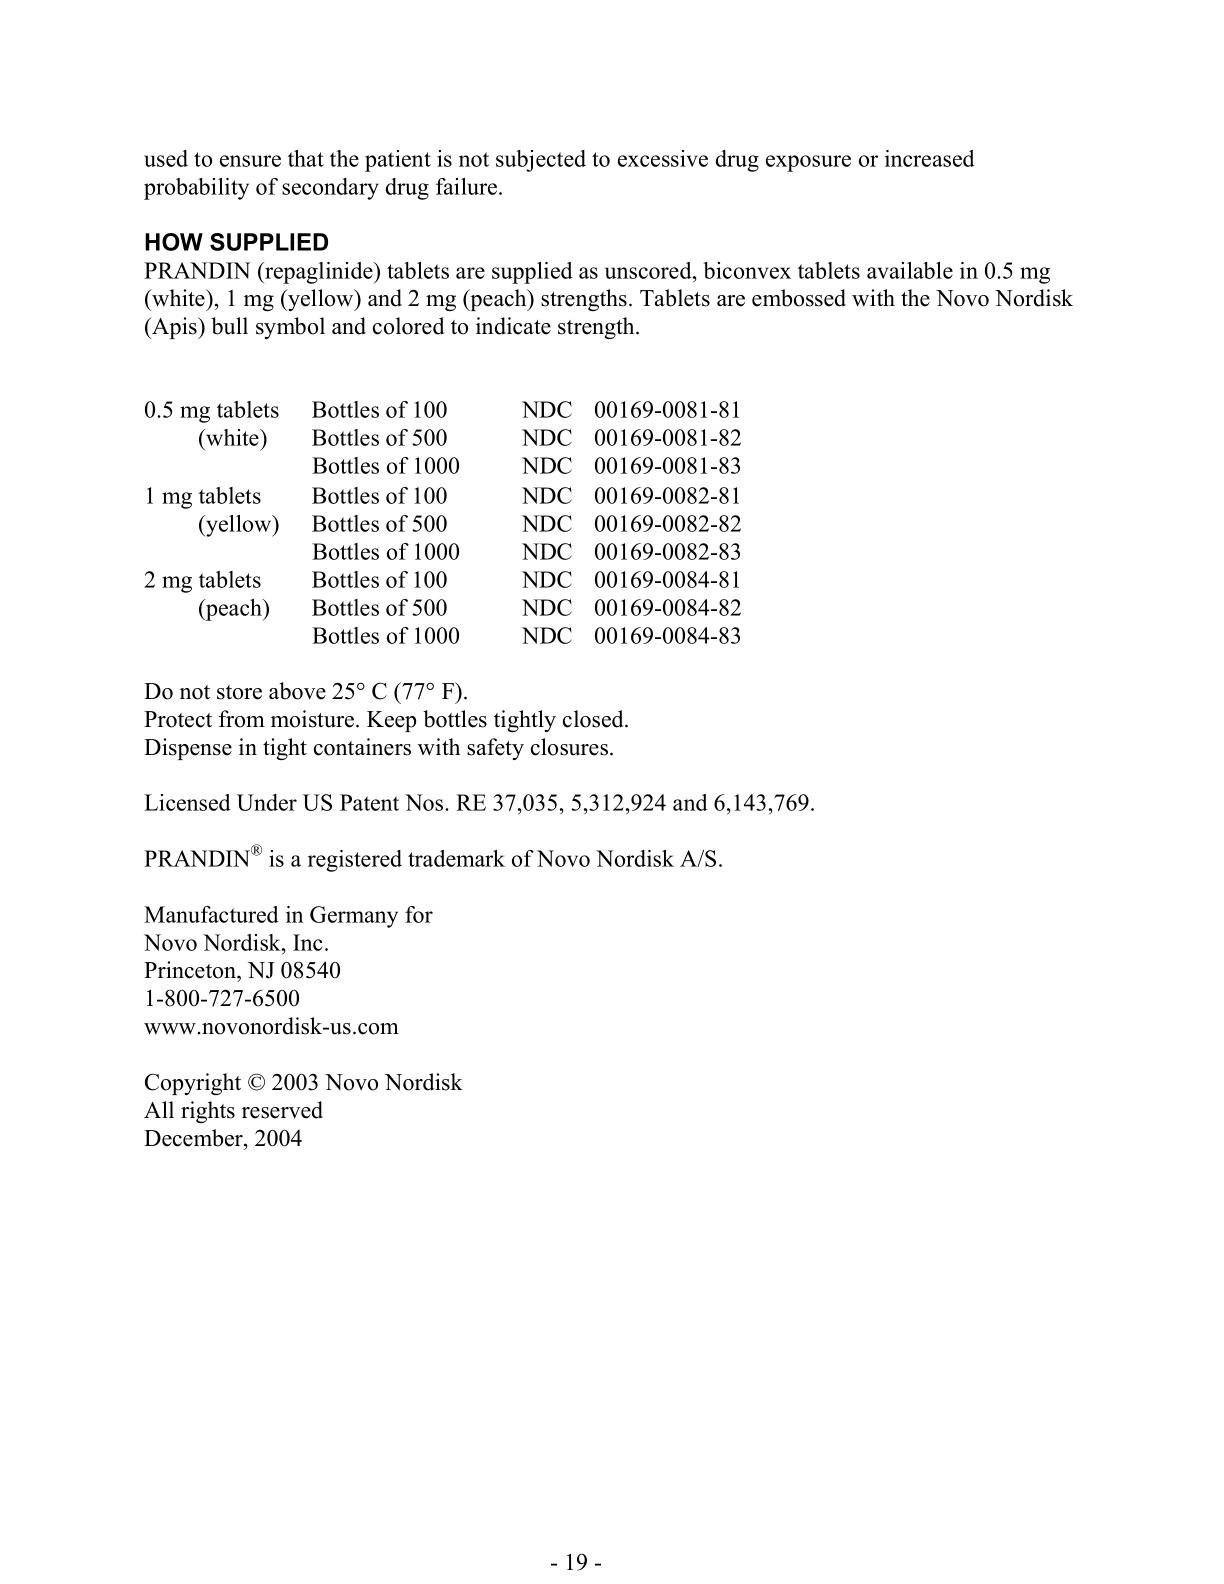nolines: (139, 395, 747, 649)
